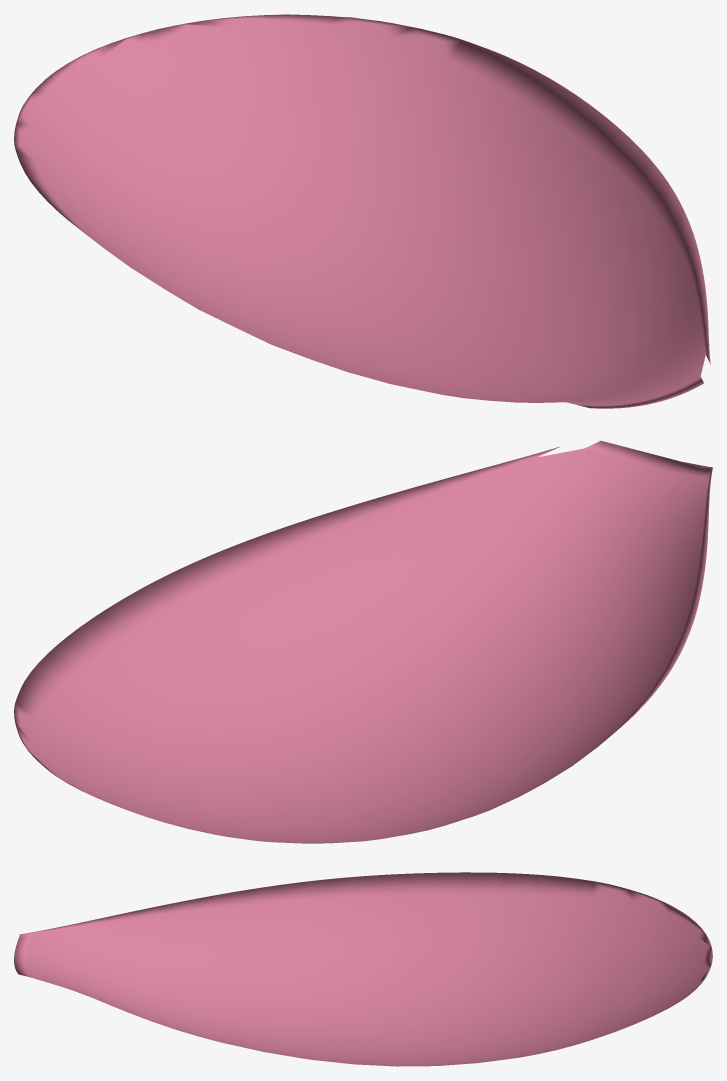
File: teaspoon_mopsig_inside.glb
3 renders of one model, top to bottom at view 1: azimuth 30°, elevation 25°; view 2: azimuth 150°, elevation 25°; view 3: azimuth 270°, elevation 25°, orthographic. The views are drawn at different scales.
Visible parts, largest first — view 1: Mesh_0.001; view 2: Mesh_0.001; view 3: Mesh_0.001.
Boxes of the visible parts, <box> form: Mesh_0.001: <box>14,14,710,408</box>; Mesh_0.001: <box>14,439,712,843</box>; Mesh_0.001: <box>14,872,712,1066</box>.
Bounding box in the file's own units: 0.0287 × 0.00649 × 0.0488.
